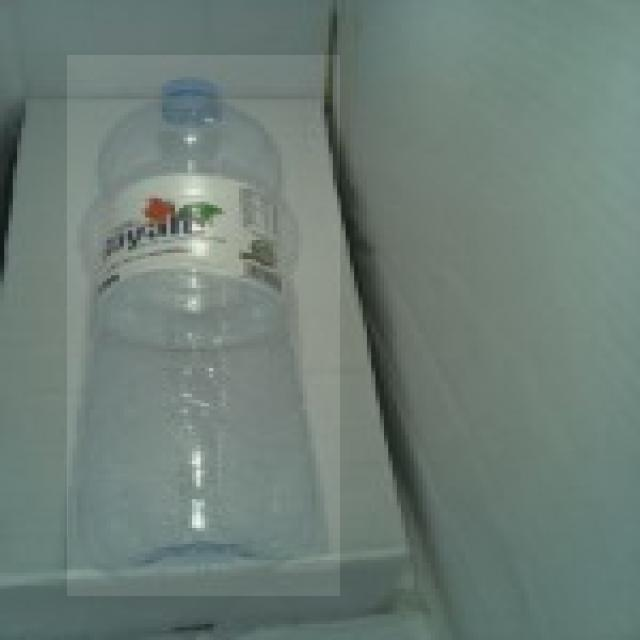BIODEGRADABLE: (67, 55, 340, 596)
